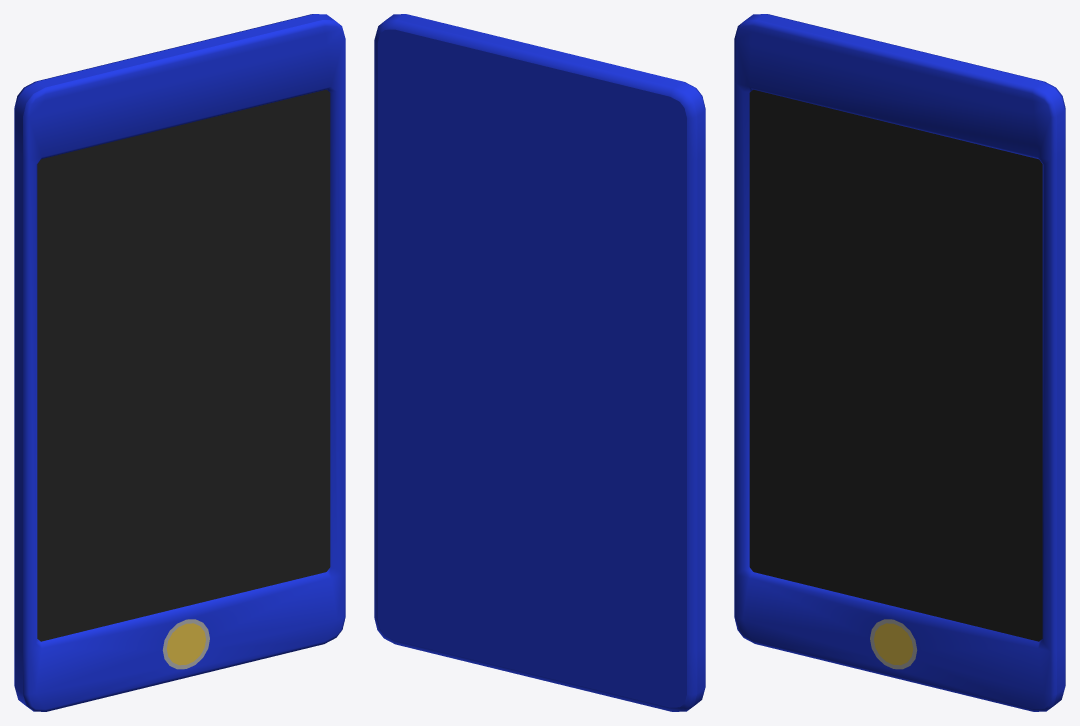
The model's file is Phone-2.fbx.
3 renders of one model, left to right at view 1: azimuth 30°, elevation 25°; view 2: azimuth 150°, elevation 25°; view 3: azimuth 330°, elevation 25°, orthographic.
Visible parts, largest first — view 1: Phone-2; view 2: Phone-2; view 3: Phone-2.
Part boxes in pixels (bbox=[...]): Phone-2: bbox=[14, 14, 345, 711]; Phone-2: bbox=[374, 14, 705, 711]; Phone-2: bbox=[734, 14, 1065, 711].
Size of the model in its own units: 0.8563 by 1.59 by 0.0645.
